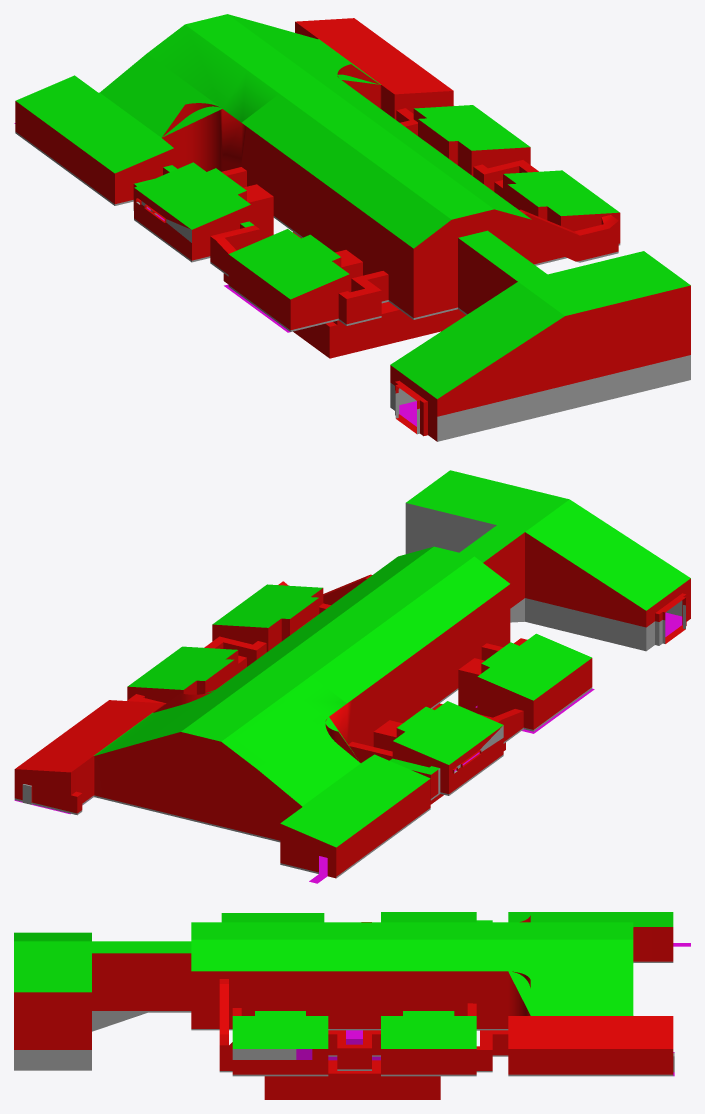
The model's file is LEVEL01_COMBINED.fbx.
3 renders of one model, top to bottom at view 1: azimuth 30°, elevation 25°; view 2: azimuth 150°, elevation 25°; view 3: azimuth 270°, elevation 25°, orthographic. The views are drawn at different scales.
Visible parts, largest first — view 1: LEVEL01_COMBINED; view 2: LEVEL01_COMBINED; view 3: LEVEL01_COMBINED.
Boxes of the visible parts, bbox=[...] form: LEVEL01_COMBINED: bbox=[14, 14, 690, 441]; LEVEL01_COMBINED: bbox=[14, 470, 690, 883]; LEVEL01_COMBINED: bbox=[14, 912, 690, 1099].
Bounding box in the file's own units: 46 × 19.66 × 95.5.
